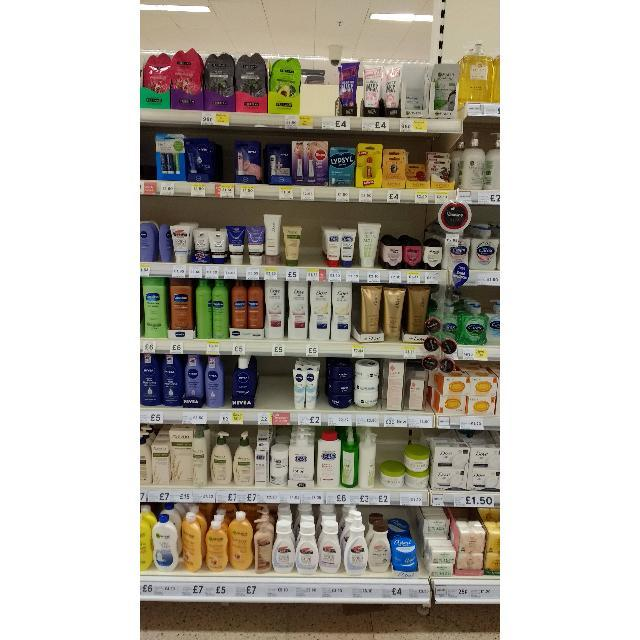empty: (301, 58, 335, 118), (257, 356, 293, 410), (300, 202, 322, 266), (217, 128, 235, 184), (141, 126, 157, 180)
